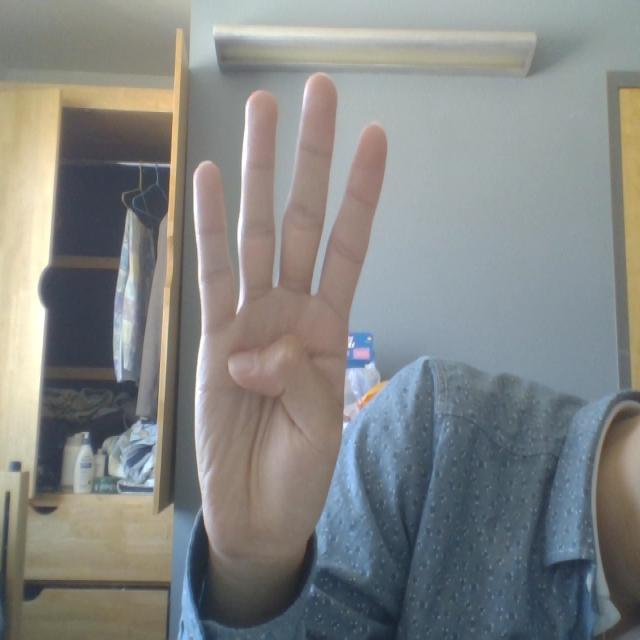B: (171, 63, 396, 618)
